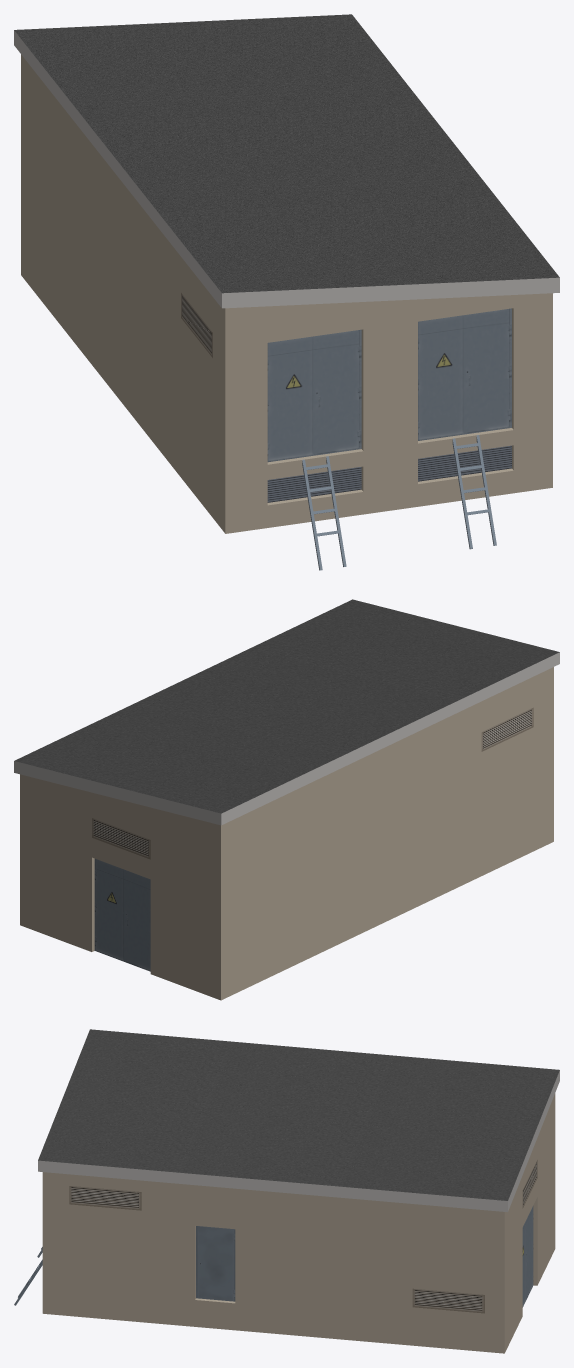
File: SmallElectricPodStation.FBX
The picture shows the model from 3 angles, top to bottom: view 1: azimuth 30°, elevation 25°; view 2: azimuth 150°, elevation 25°; view 3: azimuth 270°, elevation 25°; orthographic projection. The views are drawn at different scales.
Visible parts, largest first — view 1: 01020-50@110663; view 2: 01020-50@110663; view 3: 01020-50@110663.
Boxes of the visible parts, <box> form: 01020-50@110663: <box>14,14,559,570</box>; 01020-50@110663: <box>14,599,559,1000</box>; 01020-50@110663: <box>14,1029,559,1353</box>.
Size of the model in its own units: 8.58 by 5.31 by 13.34.
Materials: 1 (1 with a texture image).
